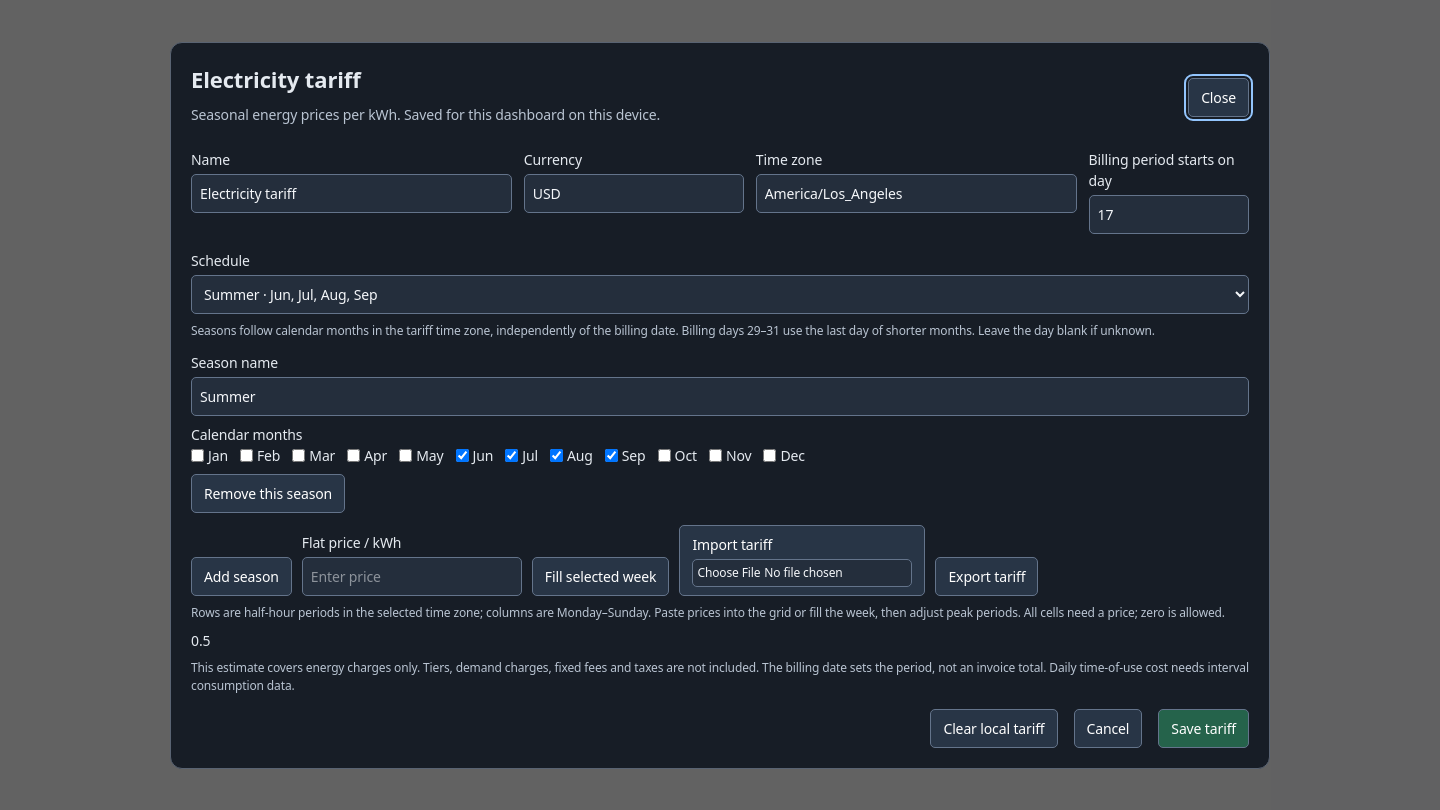
keeps the selected schedule when a cell cannot be committed
This screenshot has width=1440, height=810.
Step 1. Select "Default · Jan, Feb, Mar, Apr, May, Oct, Nov, Dec" in the dropdown labelled "Schedule" → coordinates (720, 294), box [191,274,1249,314]
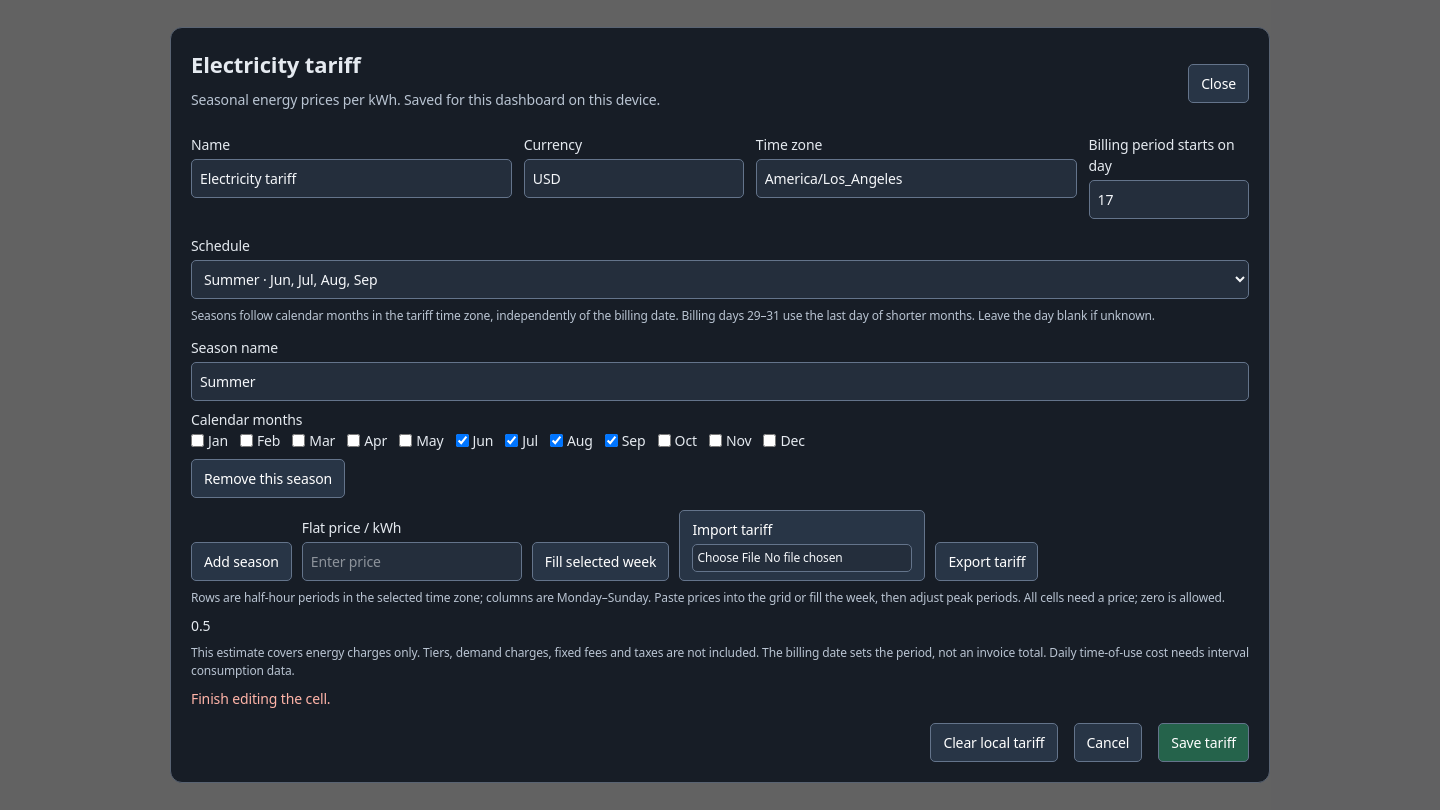
Now the message "Finish editing the cell." is shown, box [191,689,330,708]
